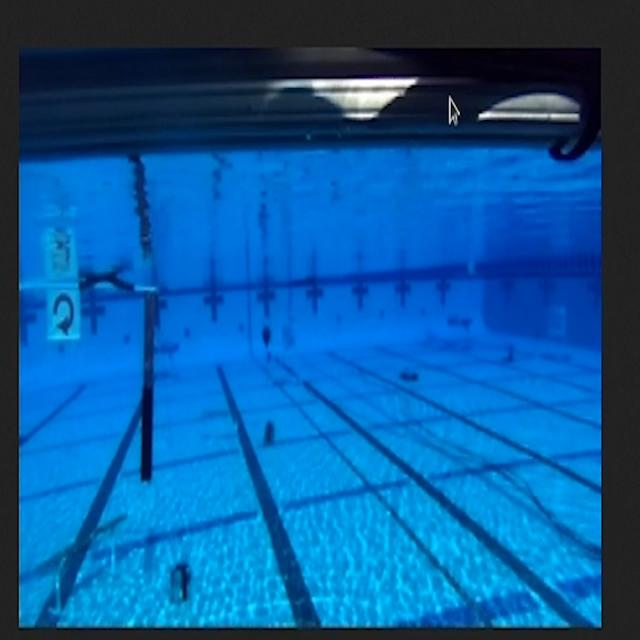Gate: (19, 270, 161, 503)
